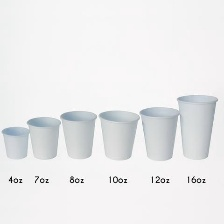paper_cup: (172, 89, 221, 163), (135, 103, 182, 163), (95, 105, 143, 163), (57, 106, 99, 161), (24, 113, 63, 162), (0, 123, 33, 162)
